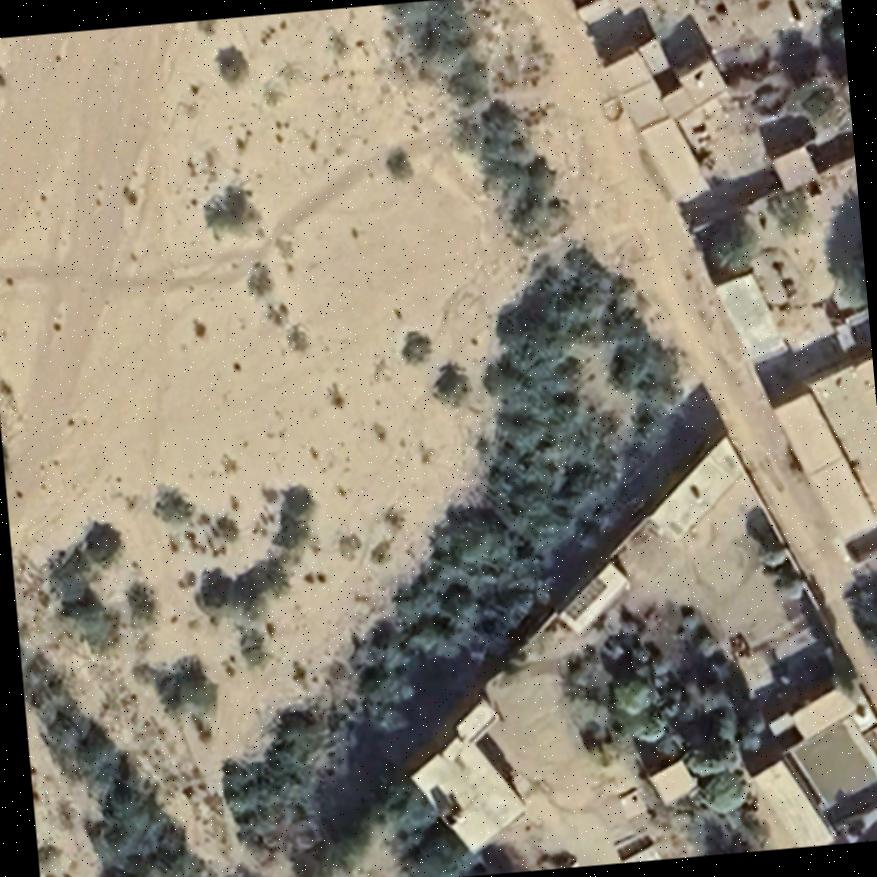Solarpanel: (555, 572, 610, 626)
